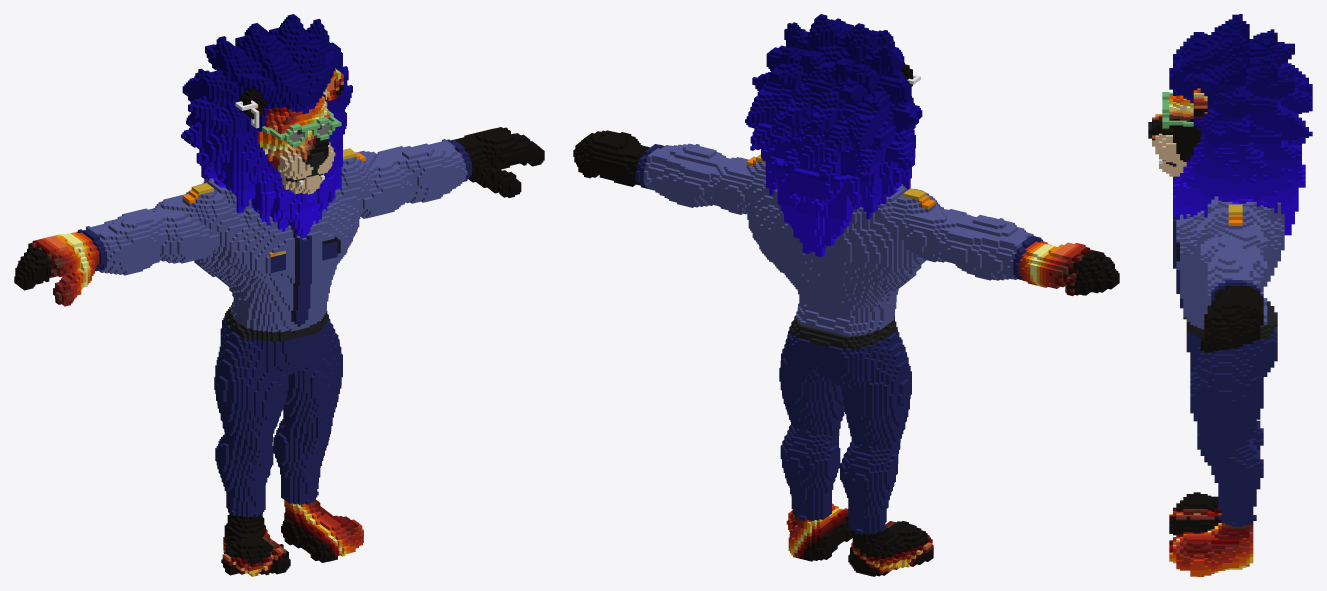
Rendered from 586-DPSArTjh.fbx.
The picture shows the model from 3 angles, left to right: view 1: azimuth 30°, elevation 25°; view 2: azimuth 150°, elevation 25°; view 3: azimuth 270°, elevation 25°; orthographic projection. The views are drawn at different scales.
Parts seen in each view (by area): view 1: standard; view 2: standard; view 3: standard.
Boxes of the visible parts, box(x1,y1,x2,y2) form: standard: box(14, 14, 544, 576); standard: box(573, 14, 1119, 576); standard: box(1148, 14, 1312, 576).
Bounding box in the file's own units: 17.2 × 16.5 × 4.7.
6 materials, 6 textured.
